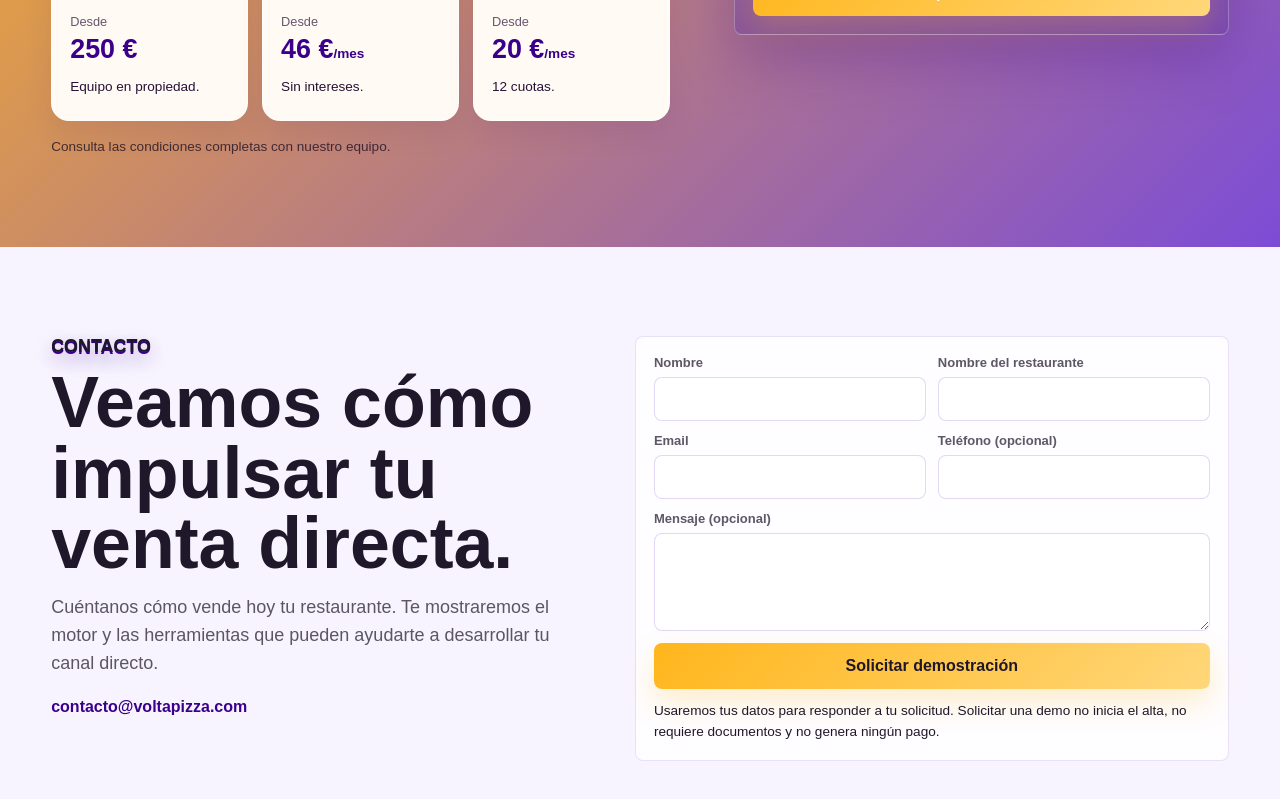
Test: failed demo request preserves contact details for retry
(page scrolled)
Step 1. Type "Ana" into the field labelled "Nombre" → (790,399), box [654, 377, 926, 421]
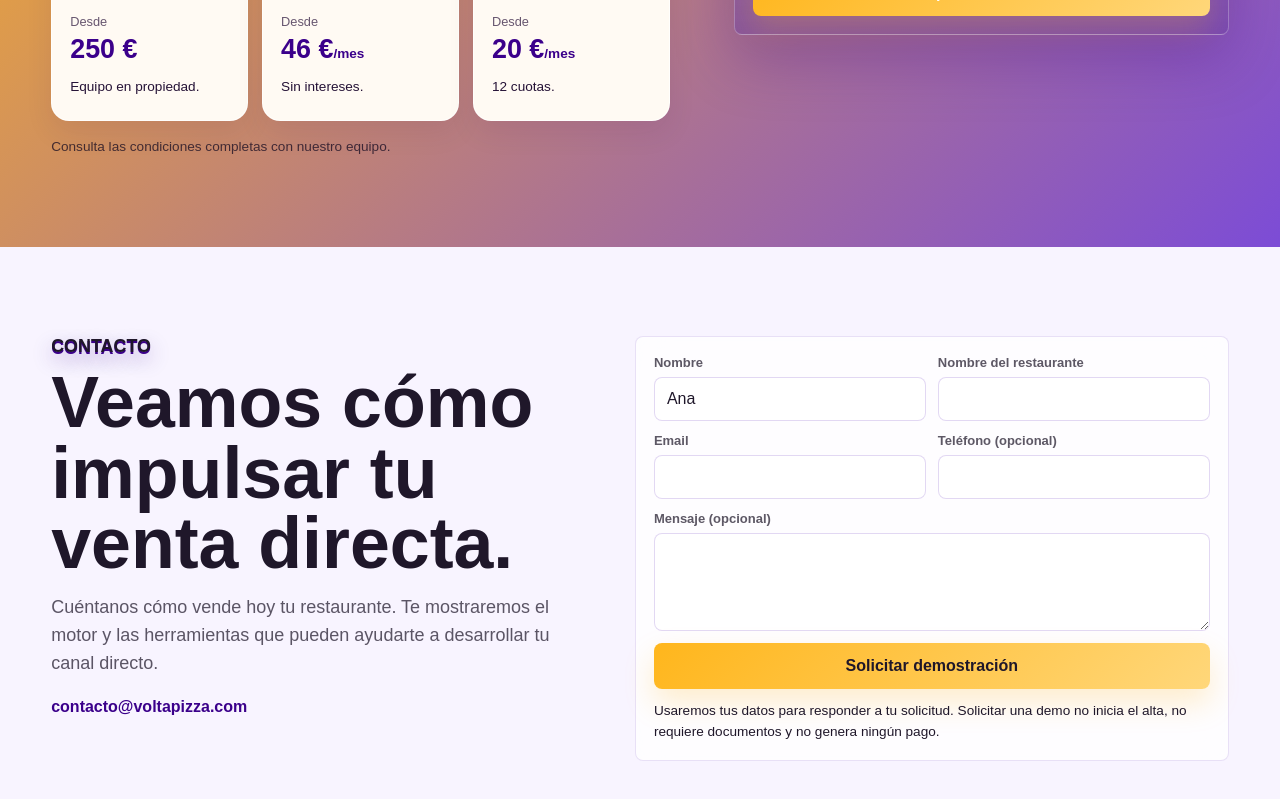
Step 2. Type "Burger Test" into the field labelled "Nombre del restaurante" → (1074,399), box [938, 377, 1210, 421]
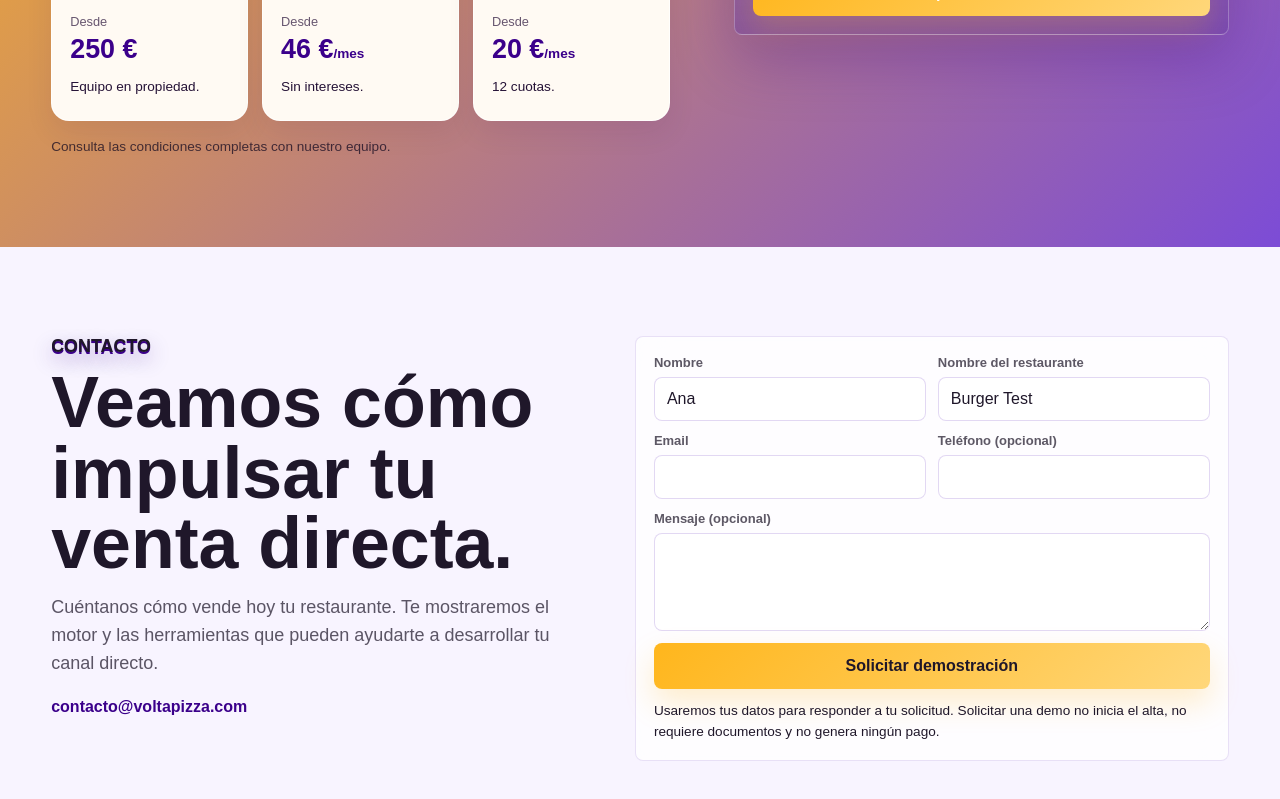
Step 3. Type "ana@example.invalid" into the field labelled "Email" → (790,477), box [654, 455, 926, 499]
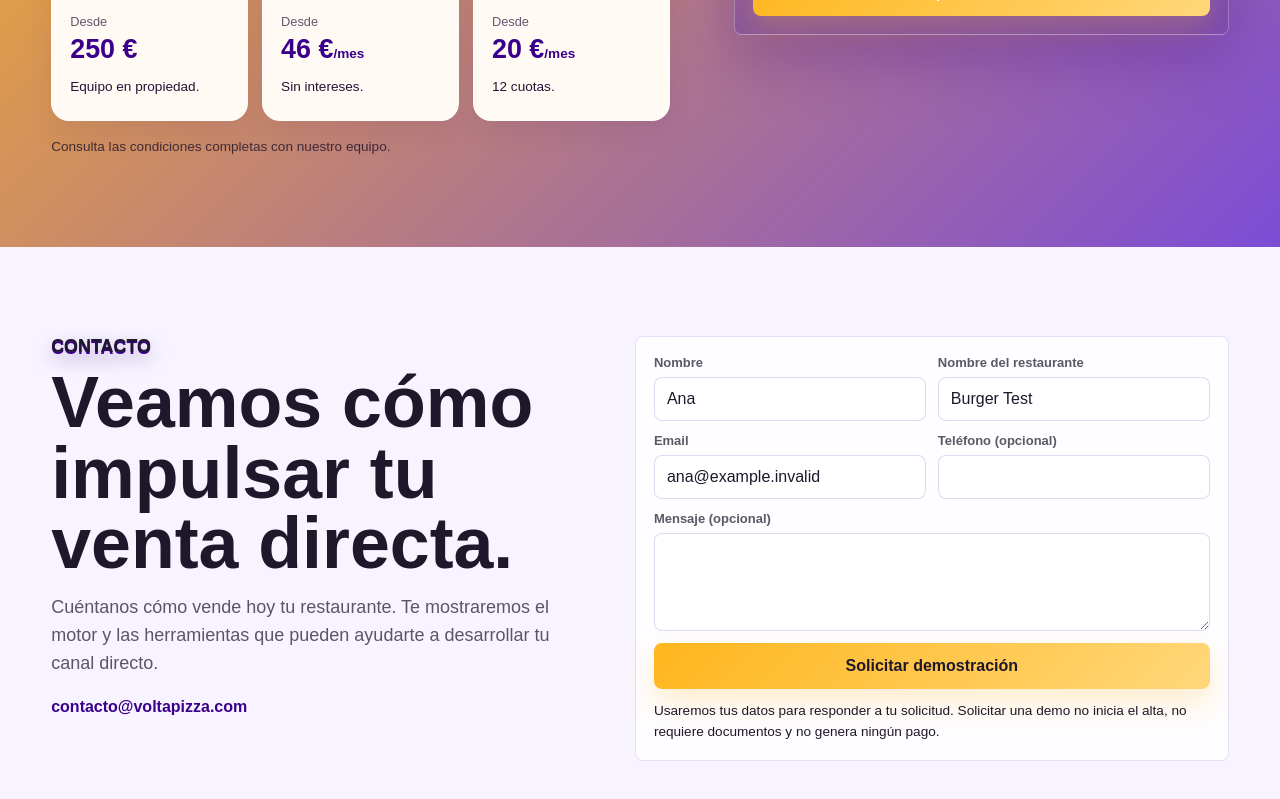
Step 4. Click the button "Solicitar demostración" → (932,666), box [654, 643, 1210, 689]
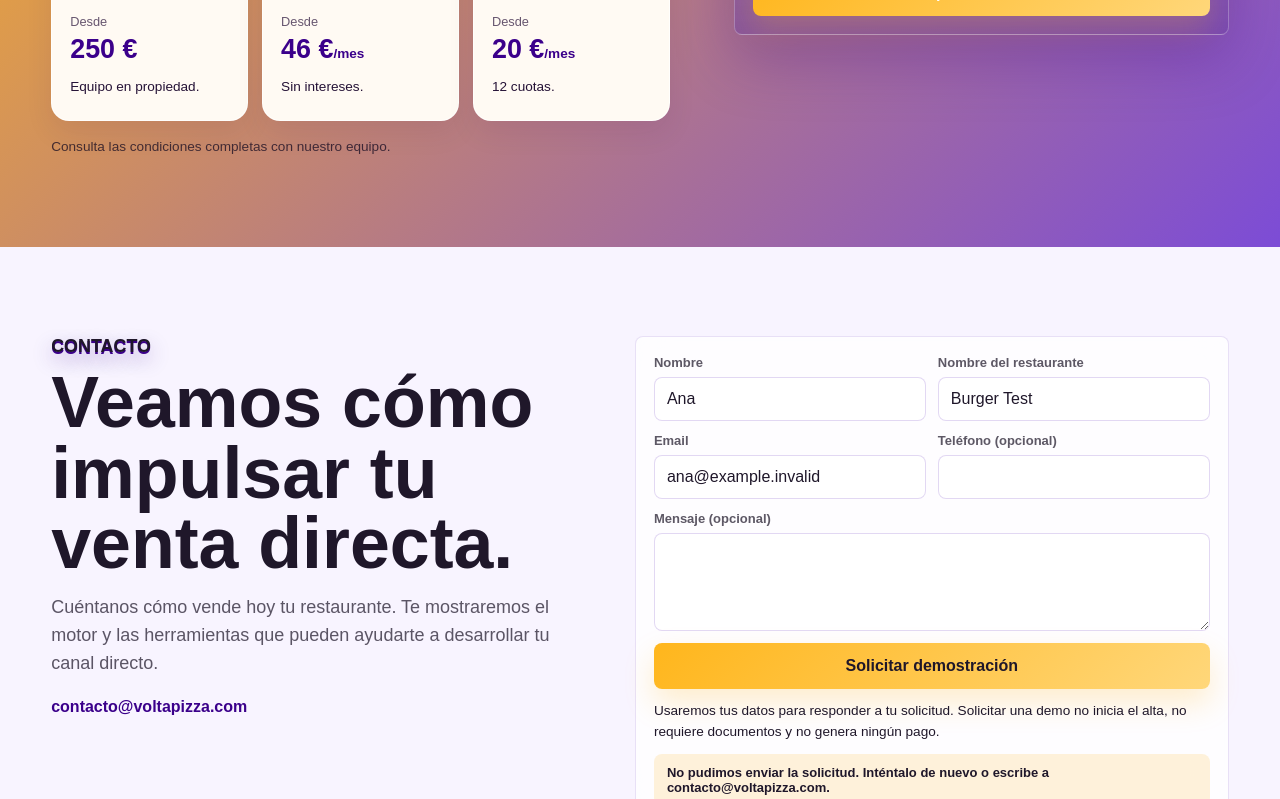
Check: the message shows "No pudimos enviar", box [667, 765, 1049, 795]
